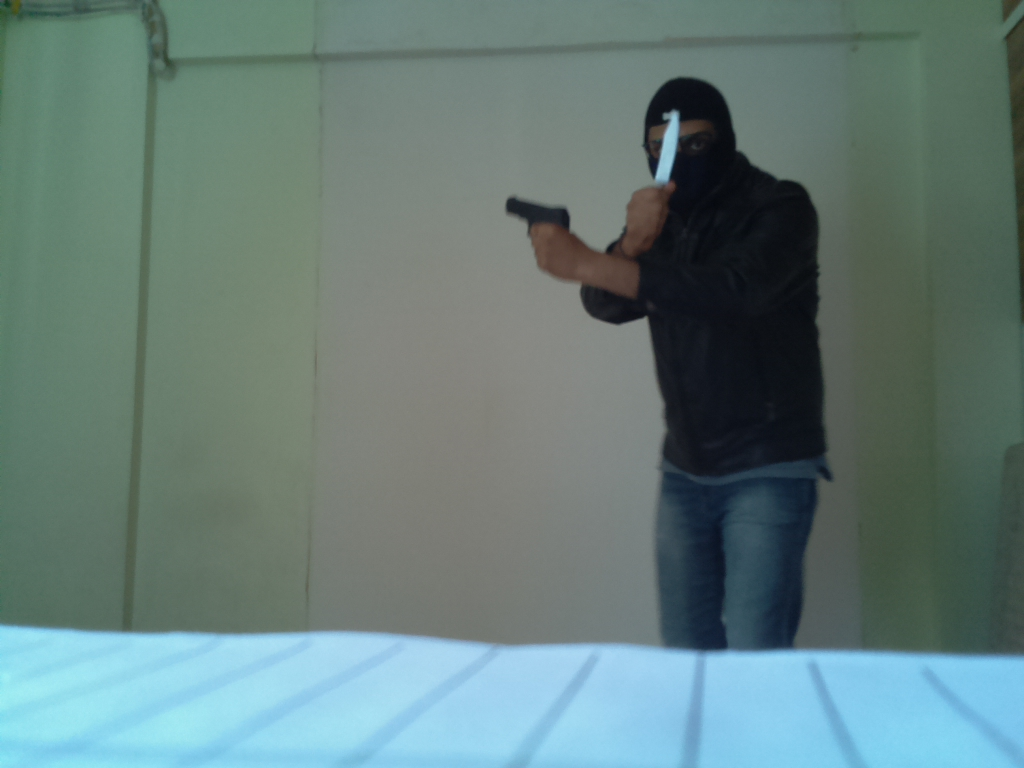gun: (497, 190, 578, 251)
knife: (644, 106, 684, 210)
